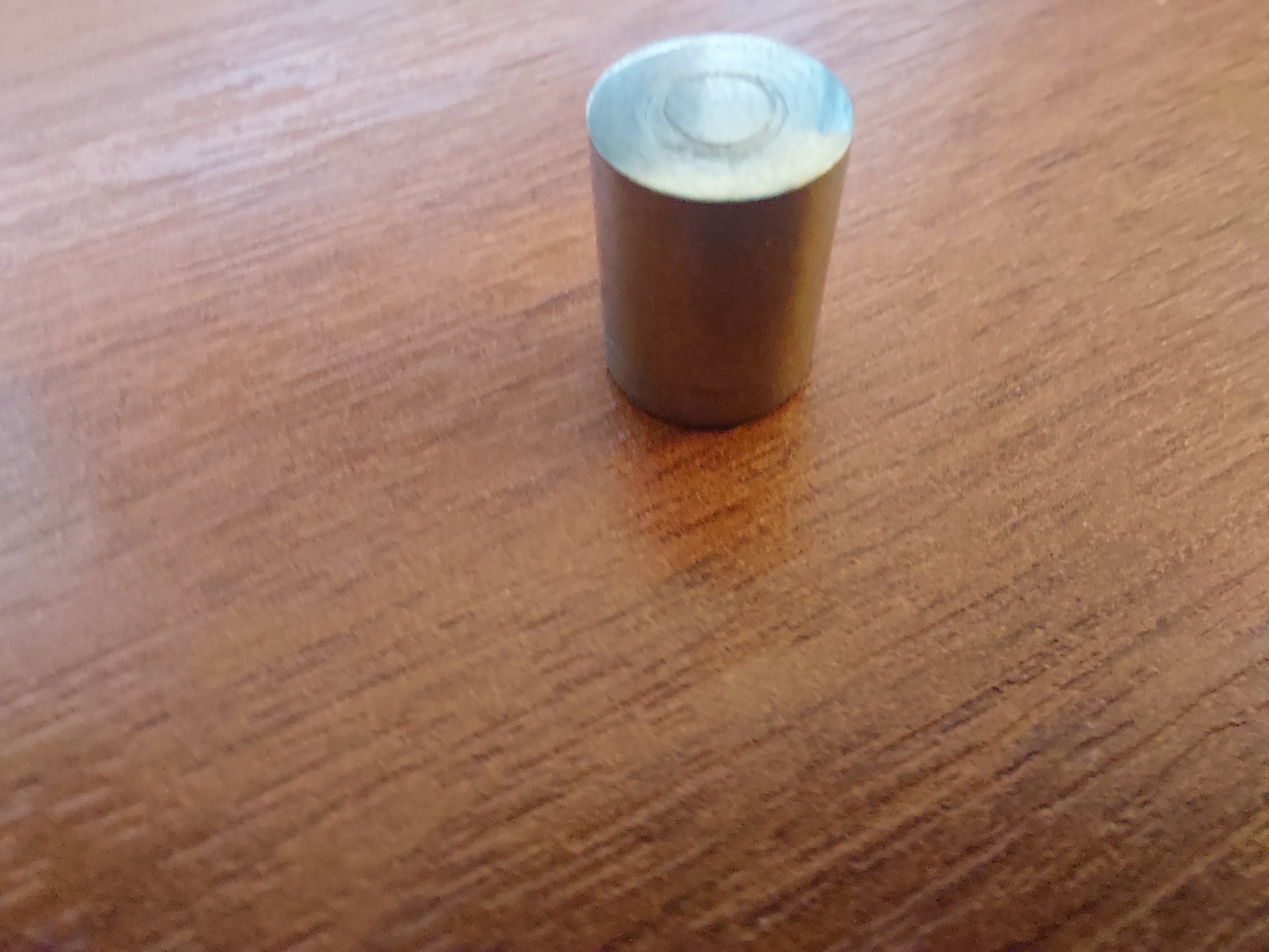tablet: (568, 37, 872, 446)
